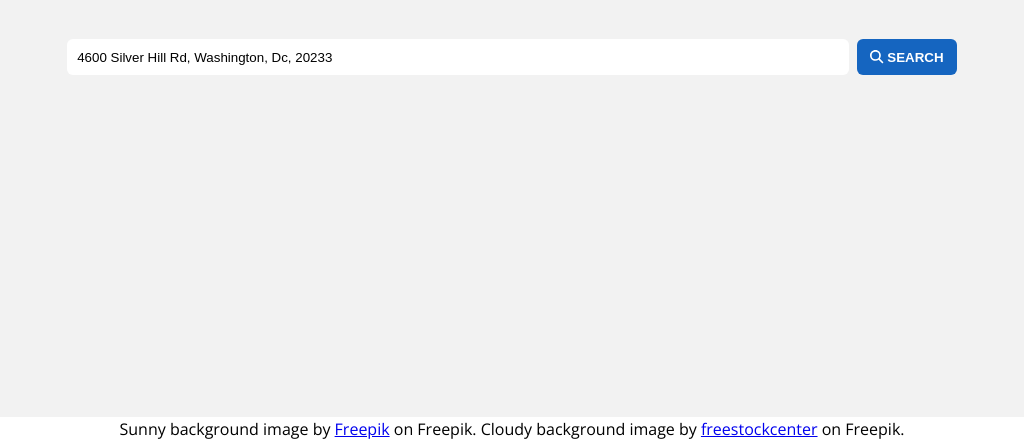
Test: App is working as intended › Search throws an error state and an error message appear
Click the button "Search". click: (907, 57)
box: [857,39,957,75]
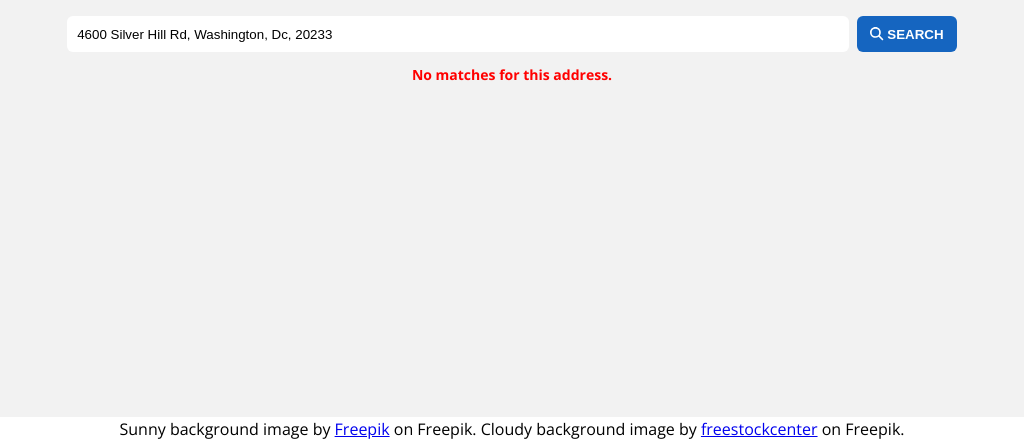
Expected: the text "No matches for this address." is shown, [412,65,612,84]
